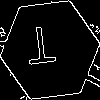T: (25, 25, 58, 74)
